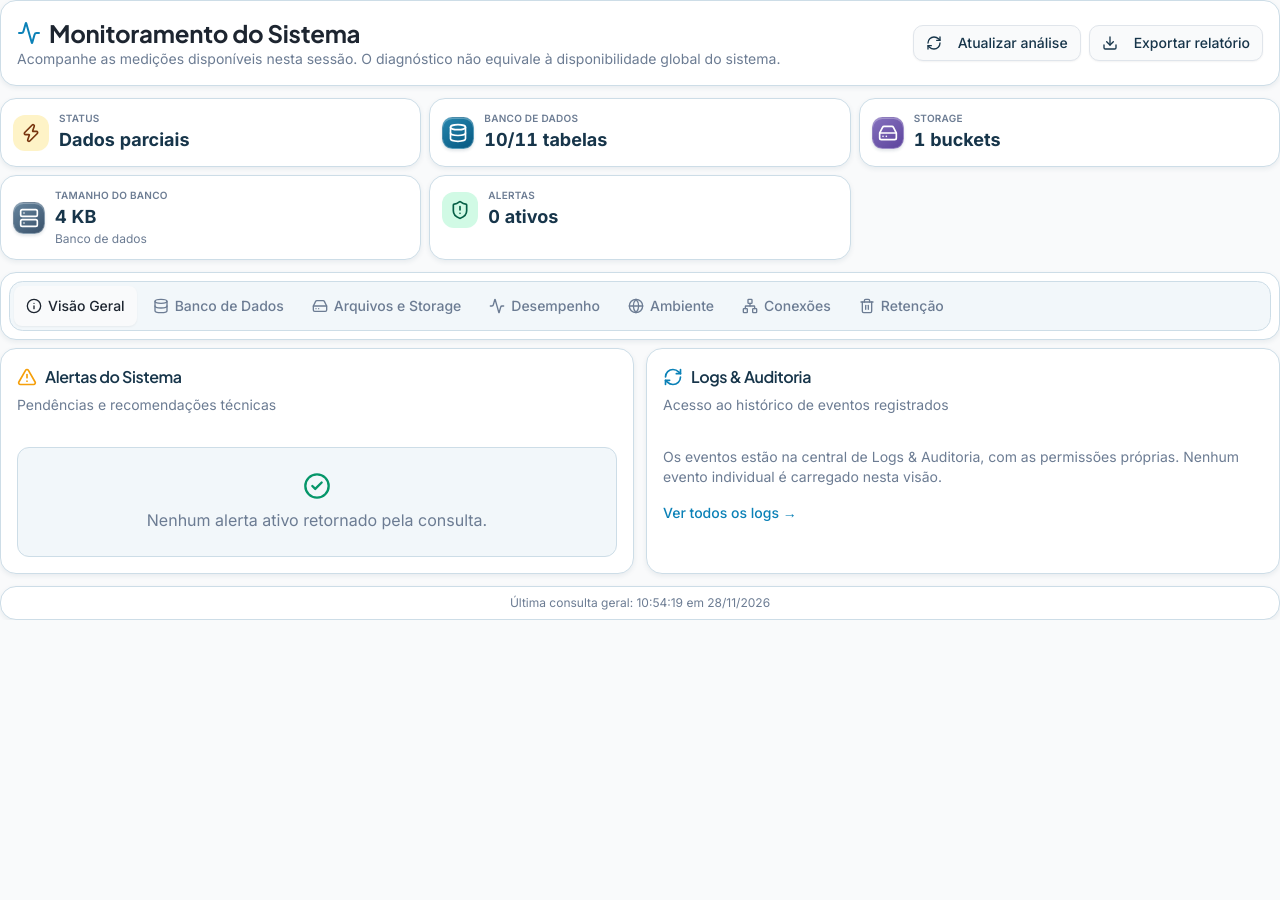
Test case: Monitoramento do Sistema › mostra contagens reais, falha de consulta e uso agregado sem inventar saldo
The image size is (1280, 900).
Expected: the text "Dados parciais" is shown, [59,129,190,150]
Expected: the text "1 buckets" is shown, [914,129,1001,150]
Press the mouse on the tab "Banco de Dados" at (218, 306), box [141,286,296,326]
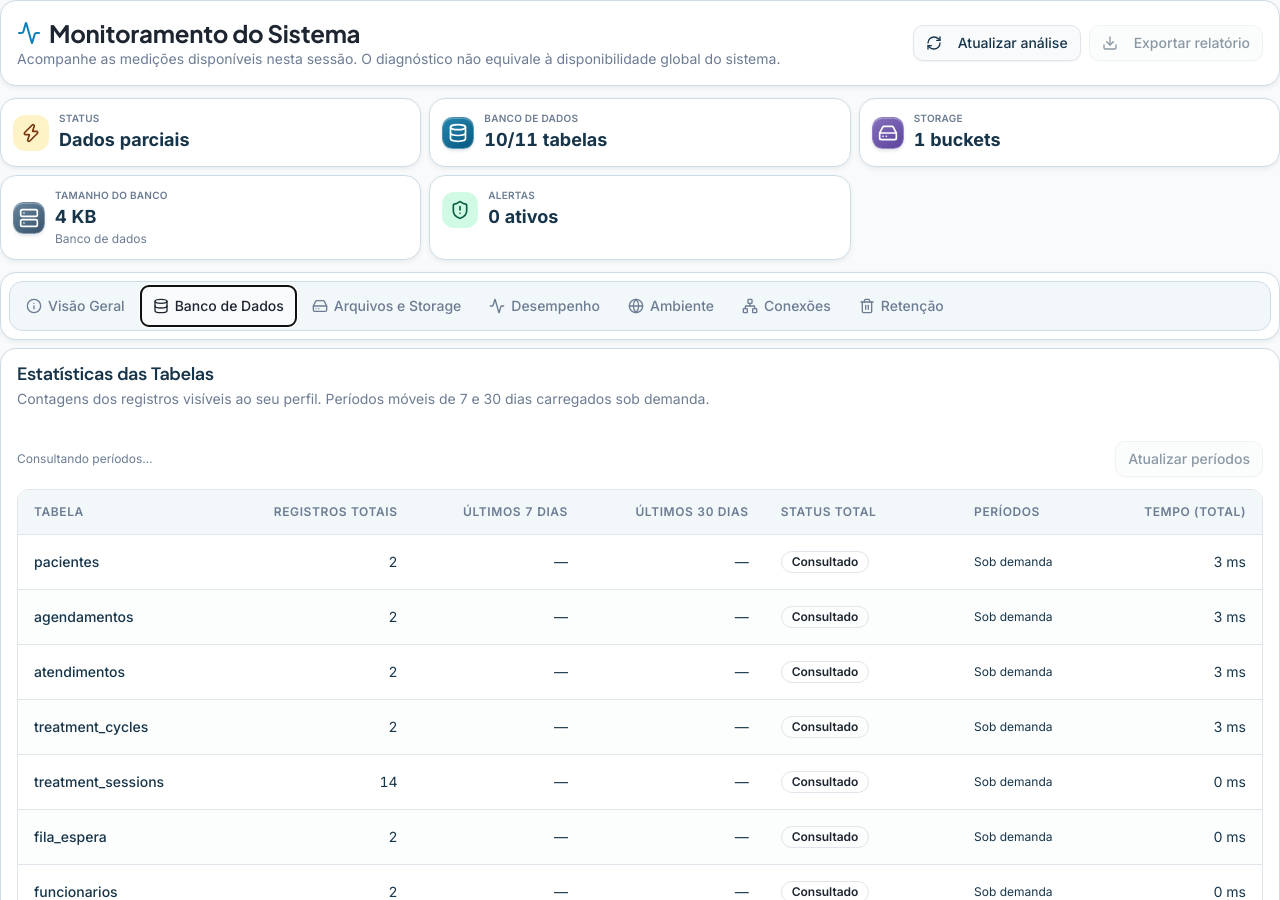
Expected: the row "treatment_sessions 14 — — Consultado Sob demanda 0 ms" is shown, [18,754,1262,809]
Press the mouse on the tab "Arquivos e Storage" at (387, 306), box [300,286,473,326]
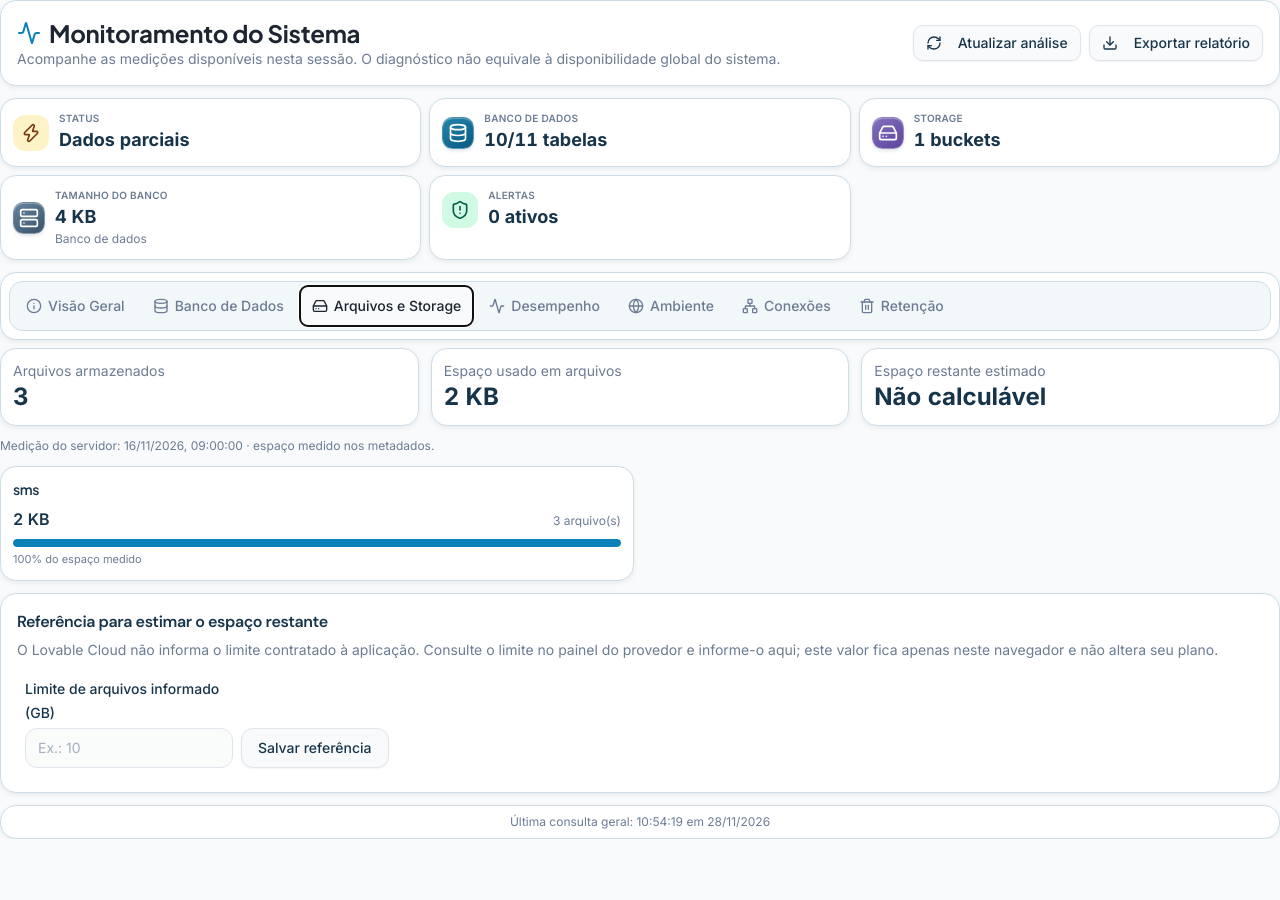
Expected: the text "Não calculável" is shown, [874,382,1046,411]
Expected: the text "2 KB" below "Espaço usado em arquivos" is shown, [444,382,499,411]
